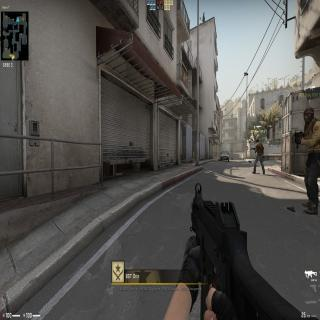T-Head: (303, 107, 315, 124), (256, 138, 260, 144)
